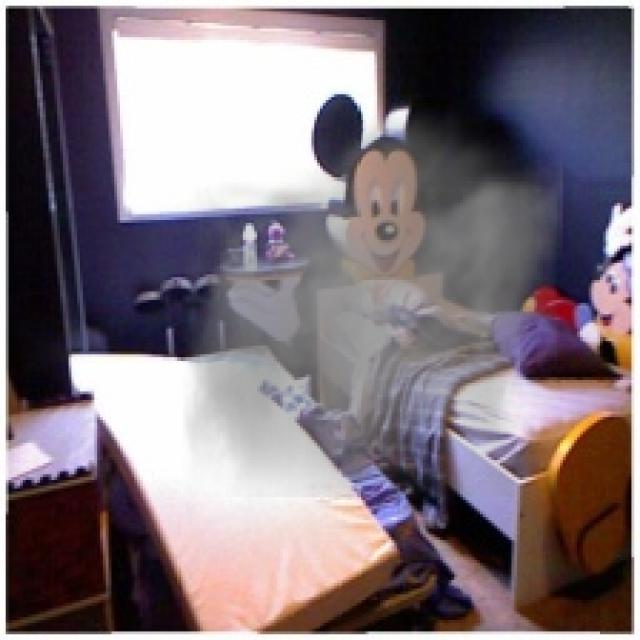smoke: (183, 97, 563, 497)
